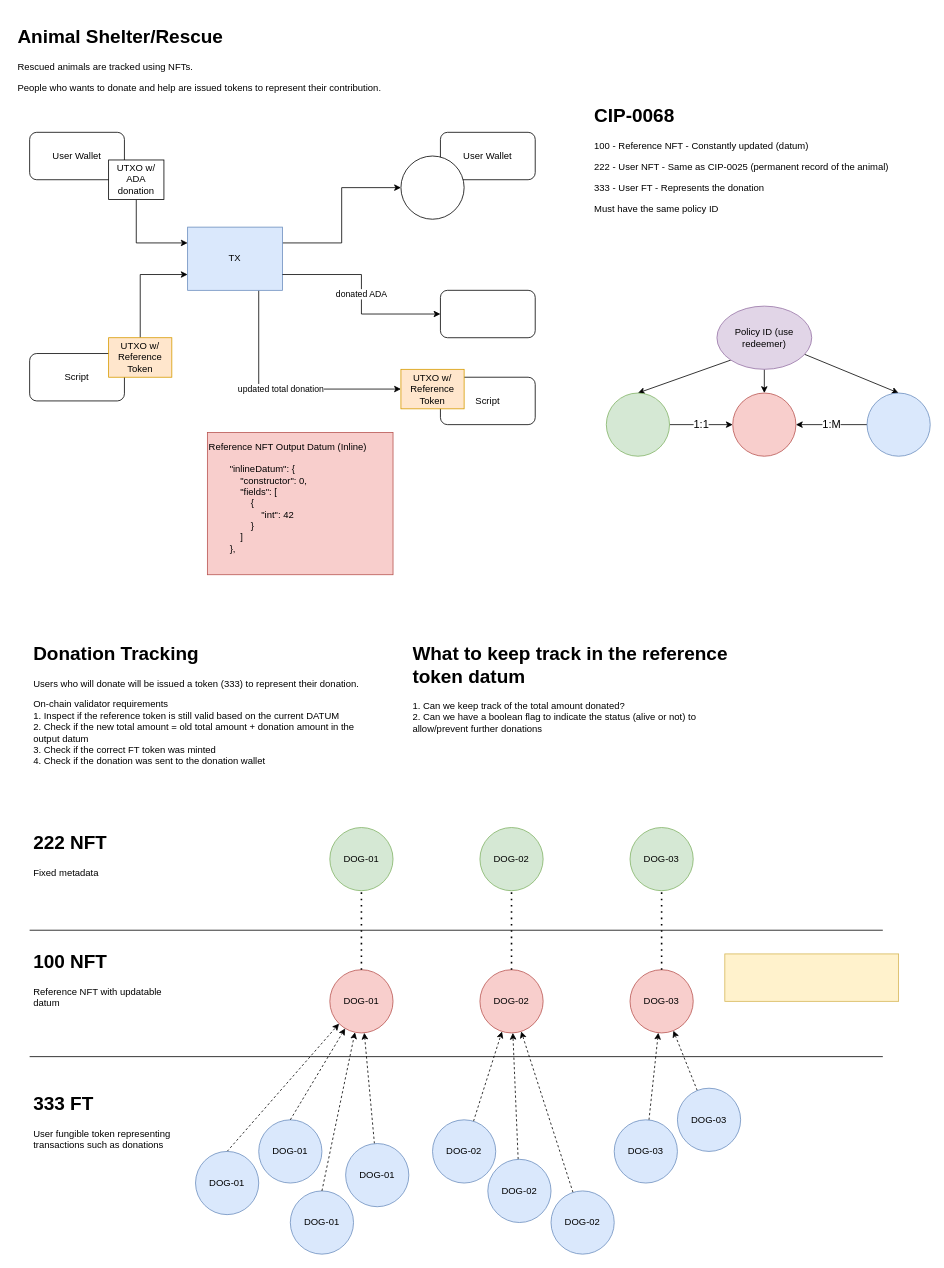
The diagram is 944 pixels wide and 1268 high, and some of its shapes have lost their labels. The shapes that lost their labels are listed below. From the top down, each one's box as (x1, y1, x2, y2) in pixels, then its label:
(400, 155, 464, 219): User Token (333)
(440, 290, 535, 338): Donation Wallet
(606, 392, 670, 456): User NFT (222)
(732, 392, 796, 456): Reference NFT (100)
(866, 392, 930, 456): User FT (333)
(724, 953, 899, 1001): Datum in the output tracks the total amount of donation
